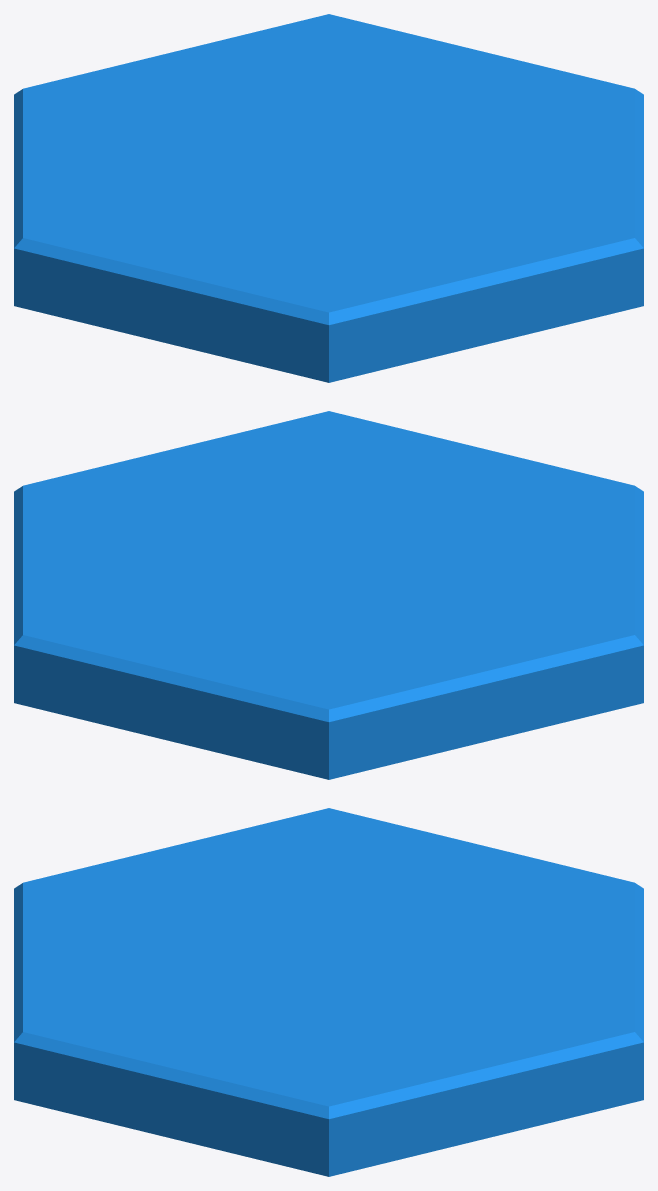
File: simple_tile_water.gltf
3 views of the same model, one above another, from view 1: azimuth 30°, elevation 25°; view 2: azimuth 150°, elevation 25°; view 3: azimuth 270°, elevation 25° (orthographic).
Visible parts, largest first — view 1: Circle; view 2: Circle; view 3: Circle.
Part boxes in pixels (x1,y1,x2,y2): Circle: (14, 14, 643, 382); Circle: (14, 411, 643, 779); Circle: (14, 808, 643, 1176).
Size of the model in its own units: 2 by 0.2 by 1.73.
